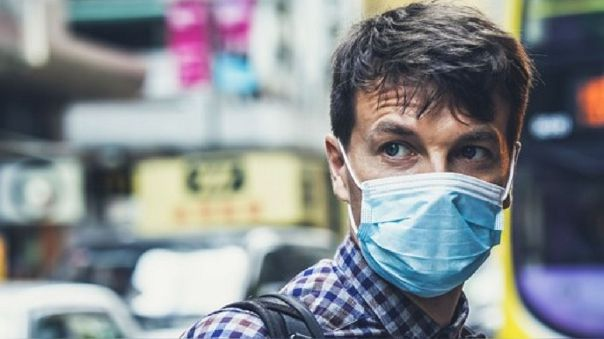with_mask: (323, 62, 529, 298)
